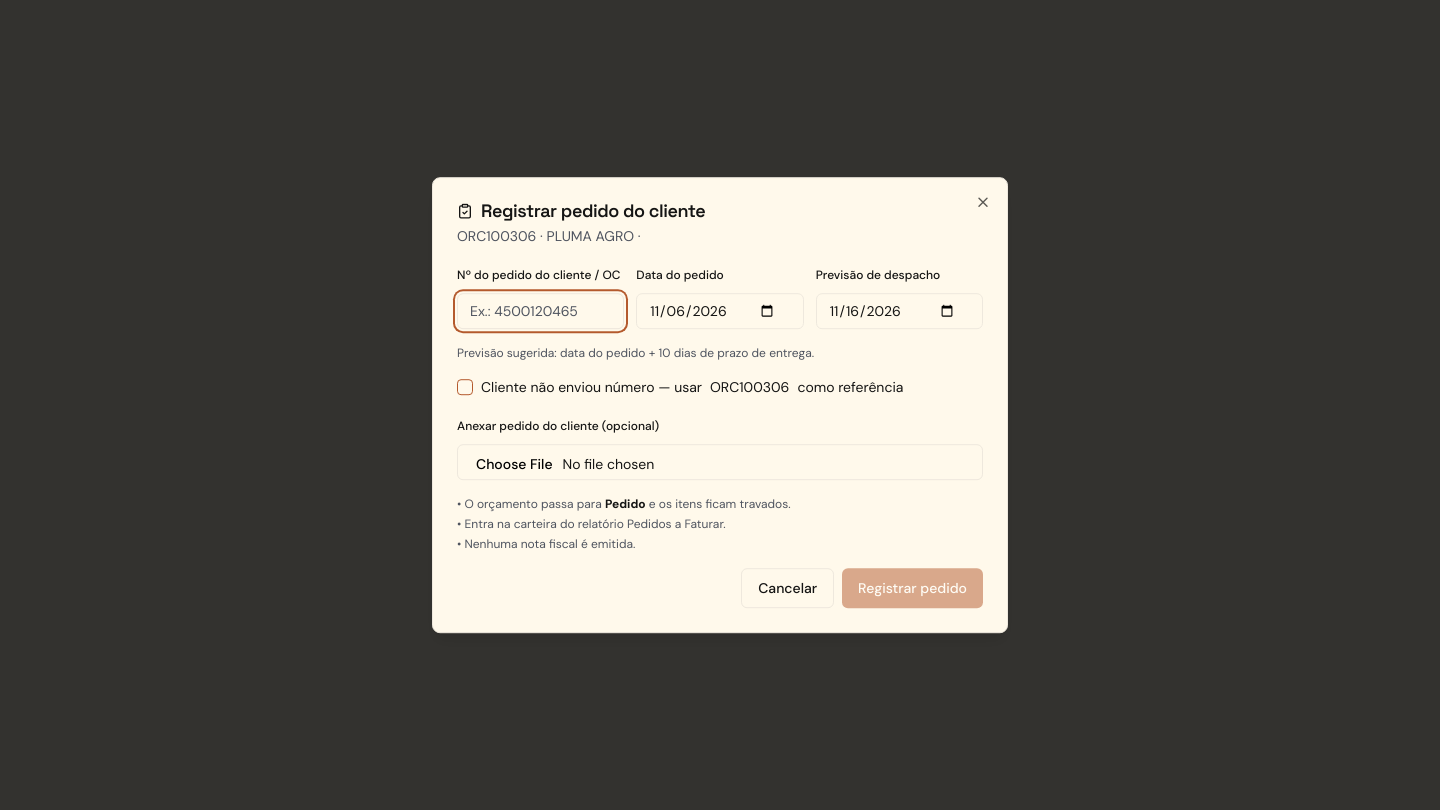
RegistrarPedidoDialog › avisa quando o mesmo pedido já existe para o cliente
Type "30725" into the field labelled "Nº do pedido do cliente / OC" at (541, 311), box [457,293,624,329]
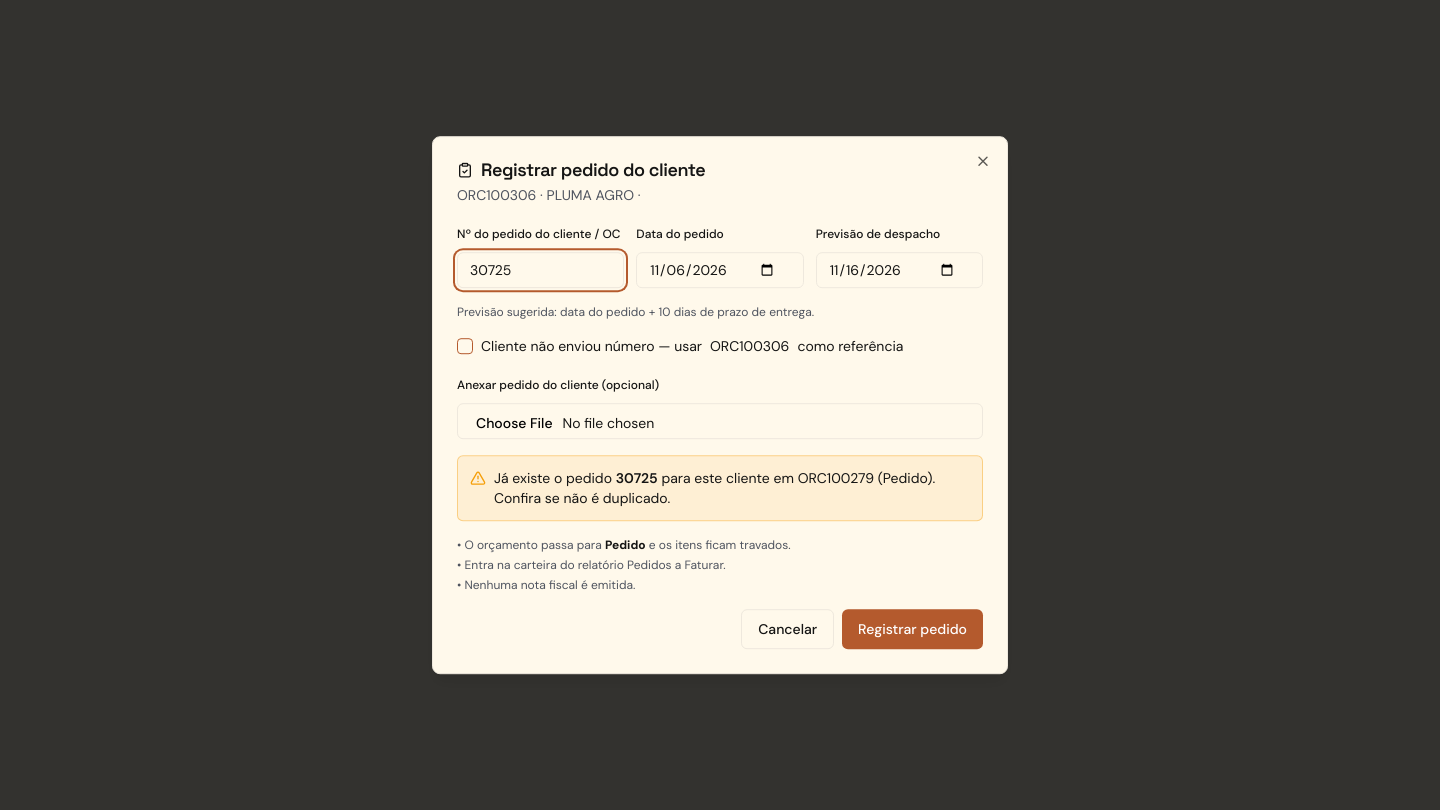
Now the text "ORC100279 (Pedido)" is shown, box [798,469,932,487]
